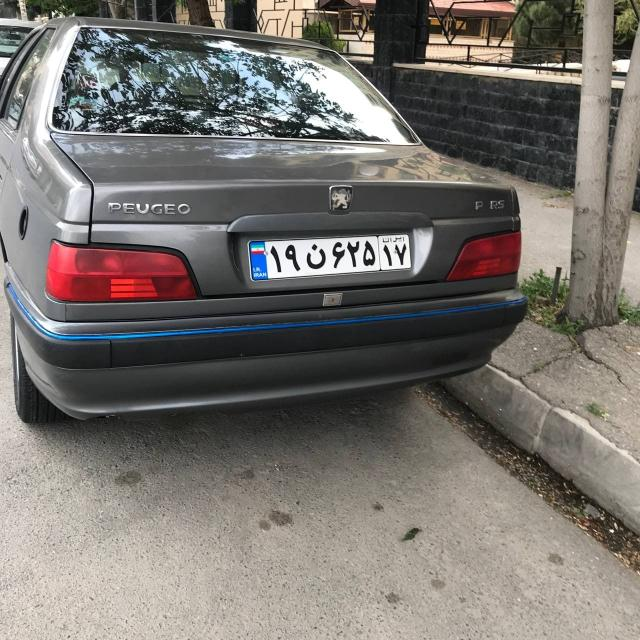Plates: (248, 229, 411, 281)
